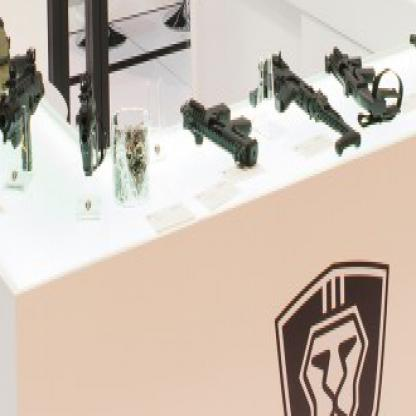gun: (162, 81, 264, 191)
